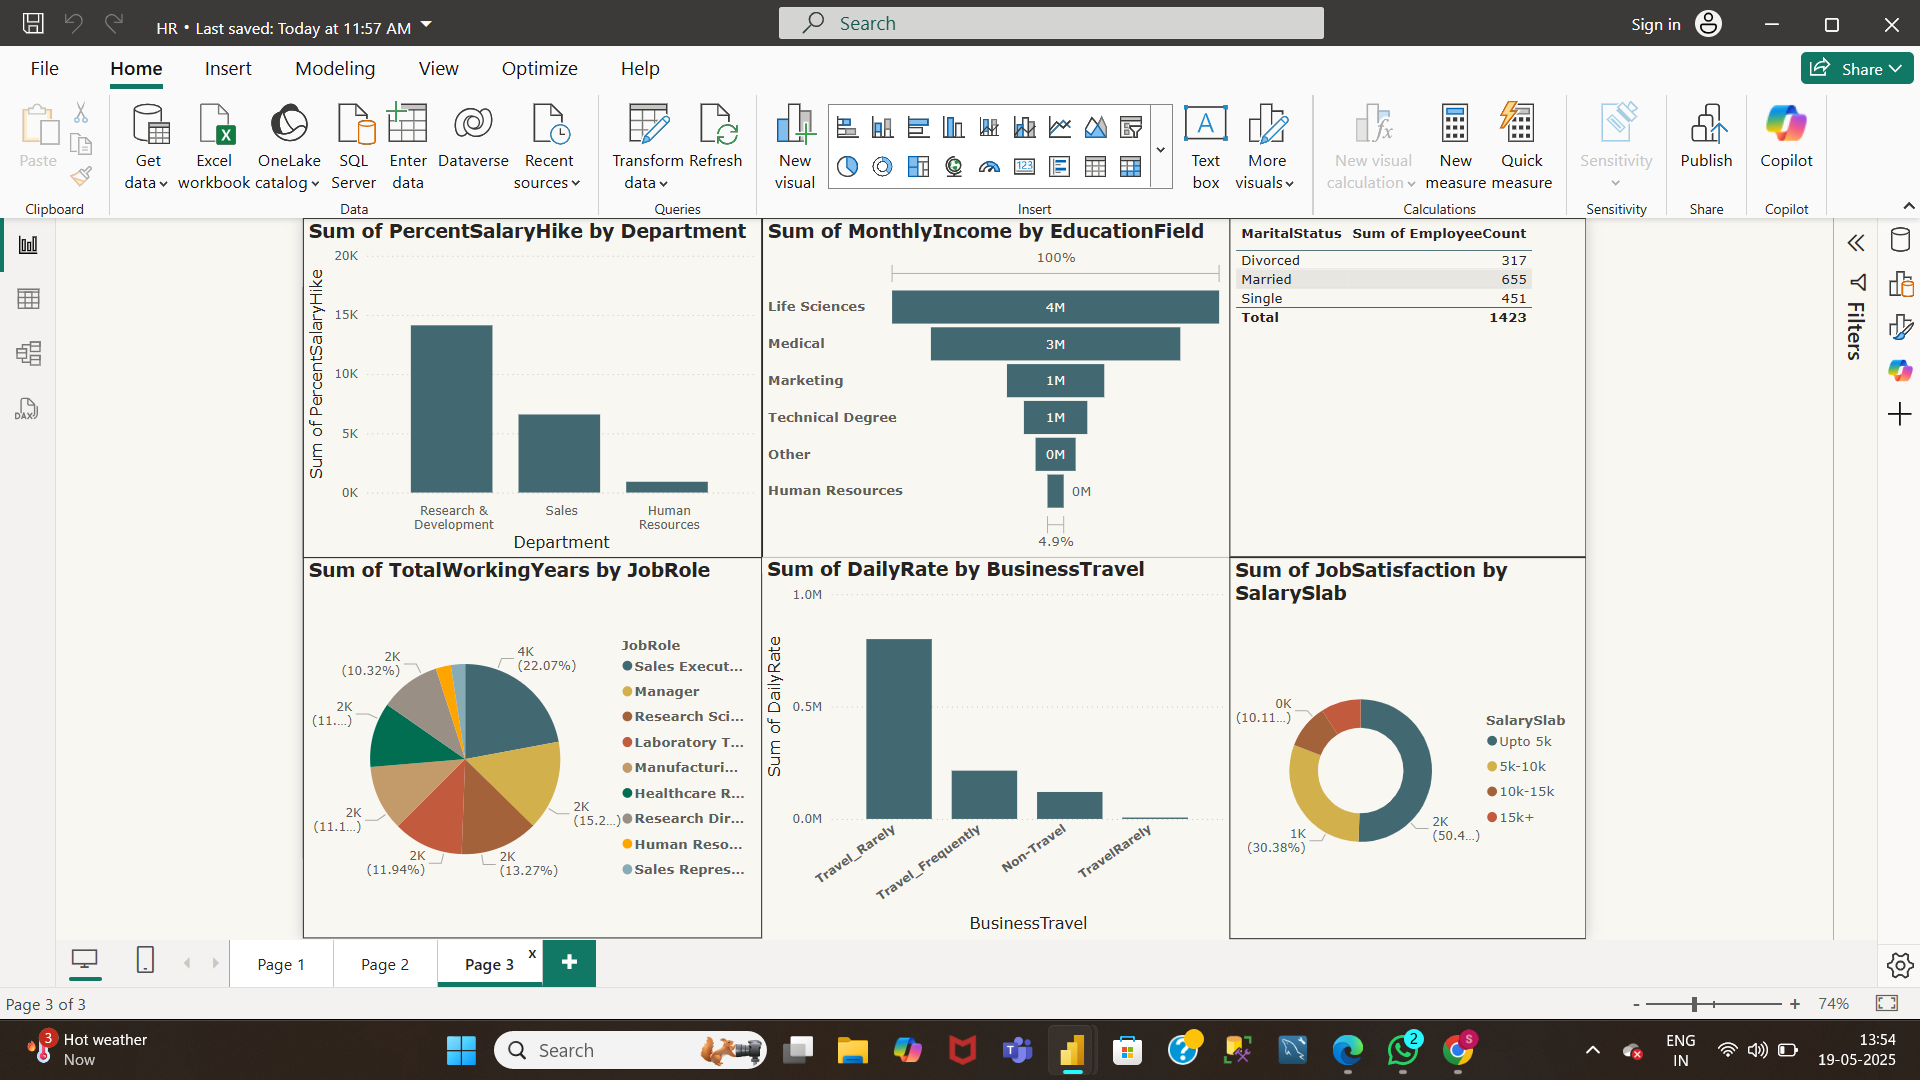

Layout of this report page (visuals, bound fields, positions):
{"tool":"powerbi","page":{"name":"Page 3","canvas":[1280,720],"ordinal":2},"visuals":[{"type":"clusteredColumnChart","fields":{"Y":["Sum(HR_Analytics.PercentSalaryHike)"],"Category":["HR_Analytics.Department"]},"box":[0,0,458,339.1],"z":0},{"type":"pieChart","fields":{"Y":["Sum(HR_Analytics.TotalWorkingYears)"],"Category":["HR_Analytics.JobRole"]},"box":[0,339.1,458,380.3],"z":1000},{"type":"funnel","fields":{"Category":["HR_Analytics.EducationField"],"Y":["Sum(HR_Analytics.MonthlyIncome)"]},"box":[458,0,467.5,339.1],"z":2000},{"type":"columnChart","fields":{"Category":["HR_Analytics.BusinessTravel"],"Y":["Sum(HR_Analytics.DailyRate)"]},"box":[458,339,467,380],"z":3000},{"type":"donutChart","fields":{"Category":["HR_Analytics.SalarySlab"],"Y":["Sum(HR_Analytics.JobSatisfaction)"]},"box":[924.4,338.5,356.2,380.6],"z":4000},{"type":"tableEx","fields":{"Values":["HR_Analytics.MaritalStatus","Sum(HR_Analytics.EmployeeCount)"]},"box":[924.4,0,356.2,338.5],"z":5000}]}

Visuals, with their boxes on the page's 1280x720 design canvas (x1, y1, x2, y2). These are canvas units, not pixel positions in the 1920x1080 screenshot, which may show the page scaled, cropped or inside an application window:
clusteredColumnChart - Sum(HR_Analytics.PercentSalaryHike) x HR_Analytics.Department: box=[0, 0, 458, 339]
pieChart - Sum(HR_Analytics.TotalWorkingYears) x HR_Analytics.JobRole: box=[0, 339, 458, 719]
funnel - HR_Analytics.EducationField x Sum(HR_Analytics.MonthlyIncome): box=[458, 0, 926, 339]
columnChart - HR_Analytics.BusinessTravel x Sum(HR_Analytics.DailyRate): box=[458, 339, 925, 719]
donutChart - HR_Analytics.SalarySlab x Sum(HR_Analytics.JobSatisfaction): box=[924, 338, 1281, 719]
tableEx - HR_Analytics.MaritalStatus x Sum(HR_Analytics.EmployeeCount): box=[924, 0, 1281, 338]
